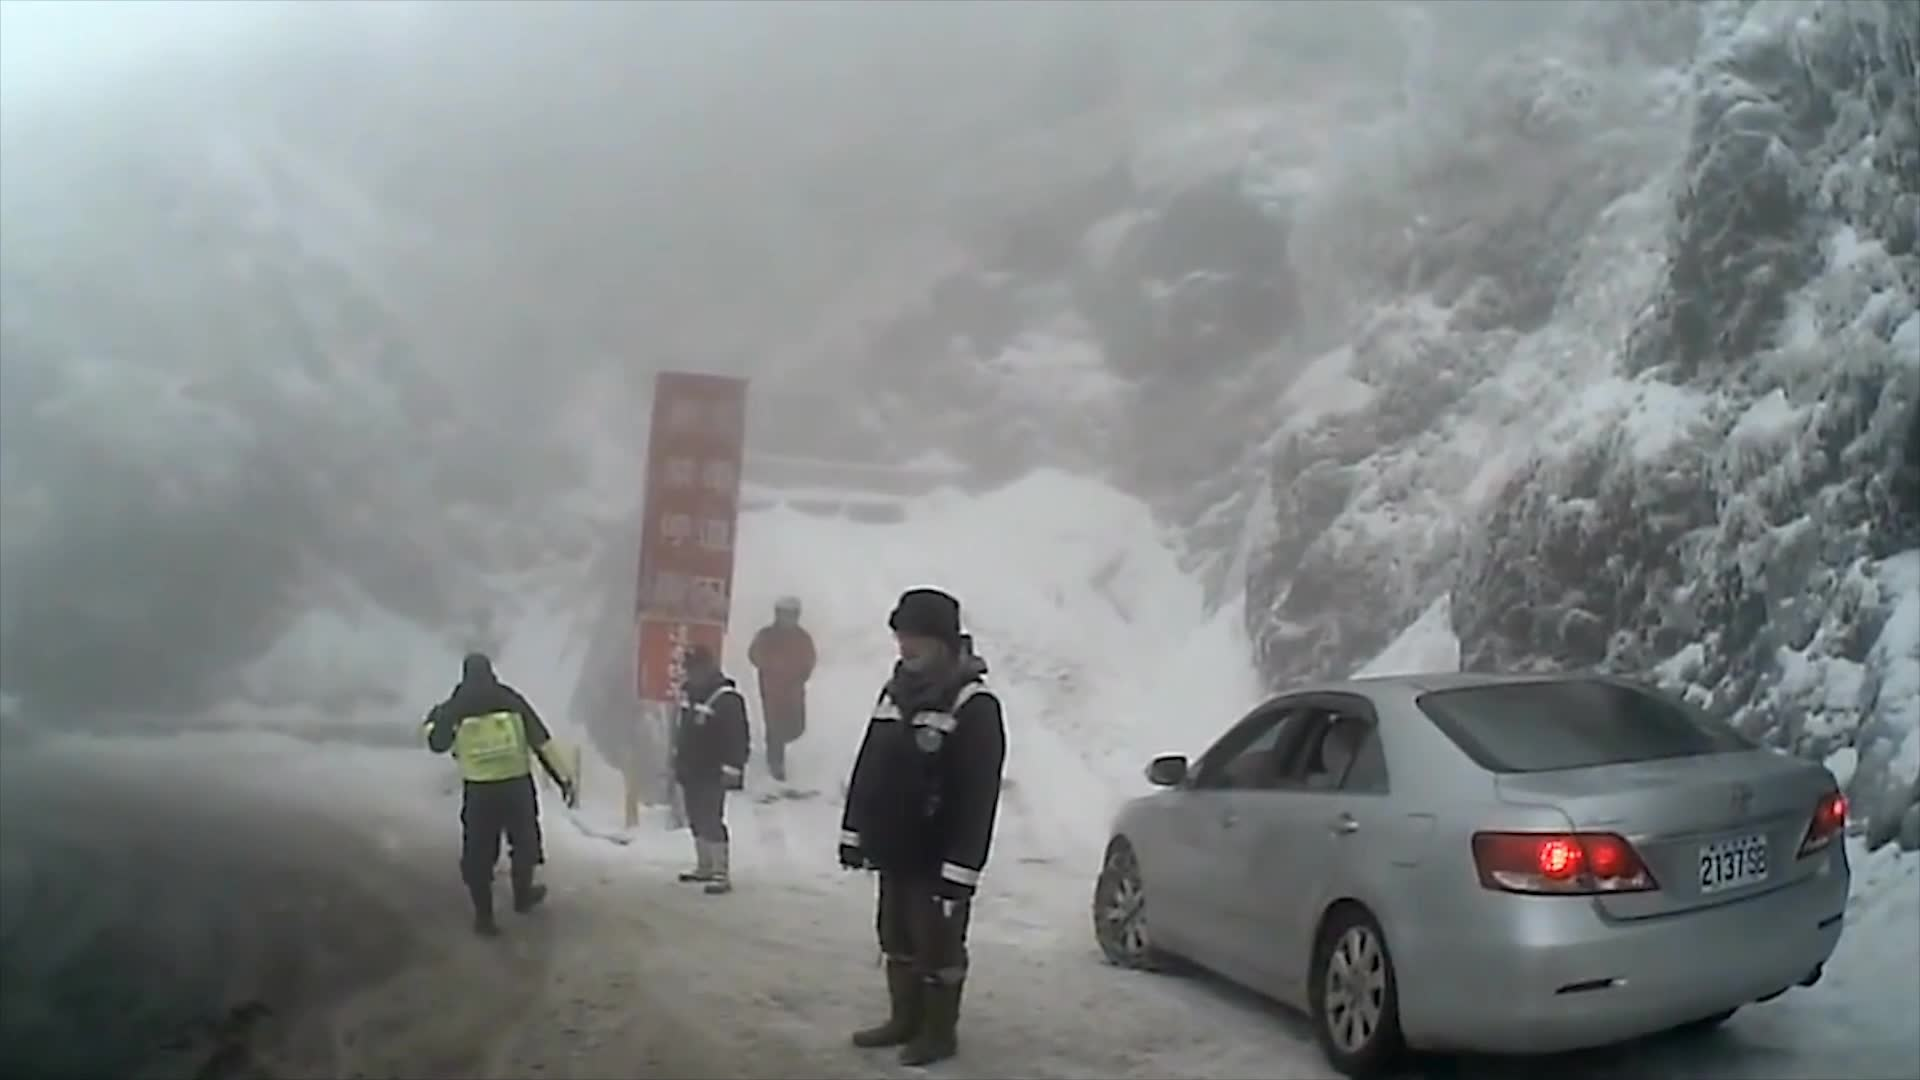pedestrian: (837, 588, 1009, 1073), (421, 656, 589, 939), (674, 647, 753, 897), (752, 595, 818, 780)
vehicle: (1096, 666, 1858, 1065)
